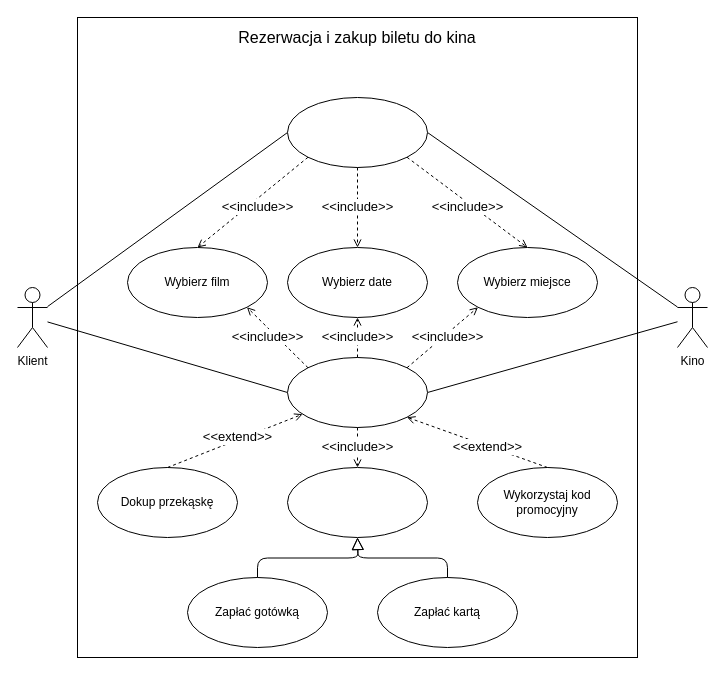
Image size: 725x675. Some labels were removed from this diagram. The shapes that lost their labels are listed below. From the top down, each one's centre as x and y in pixels, then its label:
At [357,132]: "Zarezerwuj bilet".
At [357,392]: "Kup bilet".
At [357,502]: "Zapłać".
